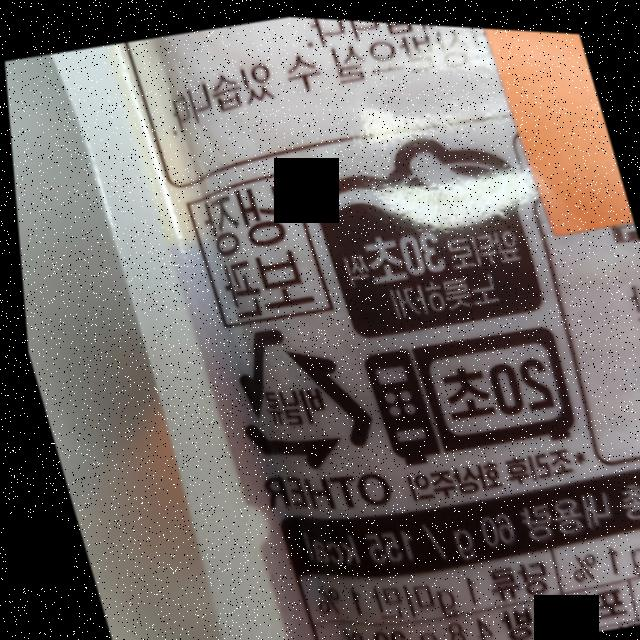Vinyl: (208, 303, 380, 480)
